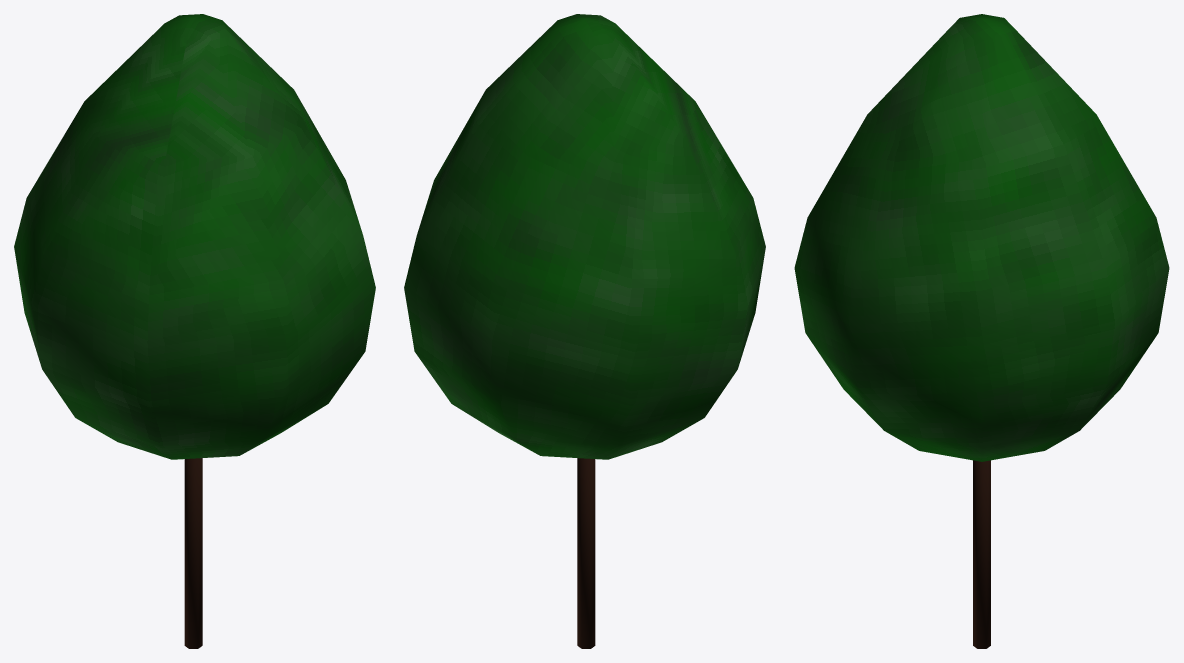
Rendered from treeE.obj.
3 renders of one model, left to right at view 1: azimuth 30°, elevation 25°; view 2: azimuth 150°, elevation 25°; view 3: azimuth 270°, elevation 25°, orthographic.
Visible parts, largest first — view 1: Tree_E_TreeE, trunk; view 2: Tree_E_TreeE, trunk; view 3: Tree_E_TreeE, trunk.
Boxes of the visible parts, <box> form: Tree_E_TreeE: <box>14,14,375,459</box>; trunk: <box>184,458,202,648</box>; Tree_E_TreeE: <box>404,14,765,459</box>; trunk: <box>577,458,595,648</box>; Tree_E_TreeE: <box>794,14,1169,461</box>; trunk: <box>973,460,990,648</box>.
Bounding box in the file's own units: 0.821 × 1.52 × 0.821.
2 materials, 1 textured.
